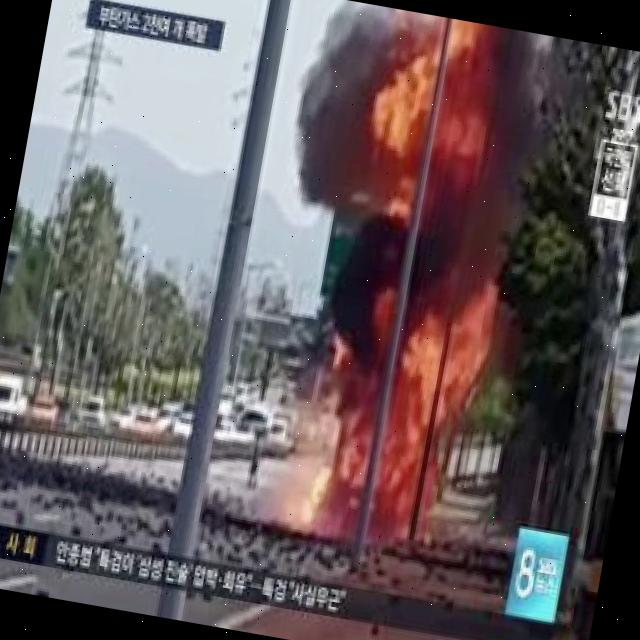fire: (300, 294, 496, 560), (370, 44, 482, 190)
